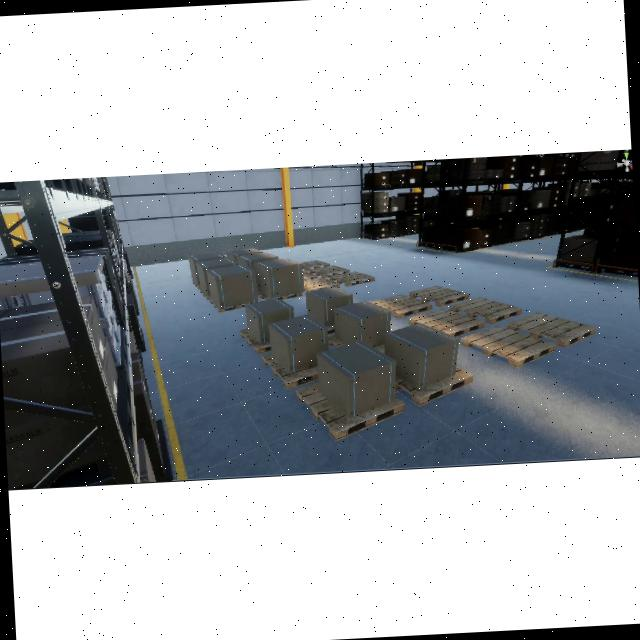wooden_pallet: (296, 384, 405, 442), (461, 326, 556, 369), (507, 312, 597, 349), (396, 366, 475, 407), (409, 308, 484, 339), (262, 353, 318, 390), (450, 297, 523, 324), (370, 294, 433, 319), (409, 286, 471, 307), (239, 329, 271, 355), (330, 271, 375, 286)
